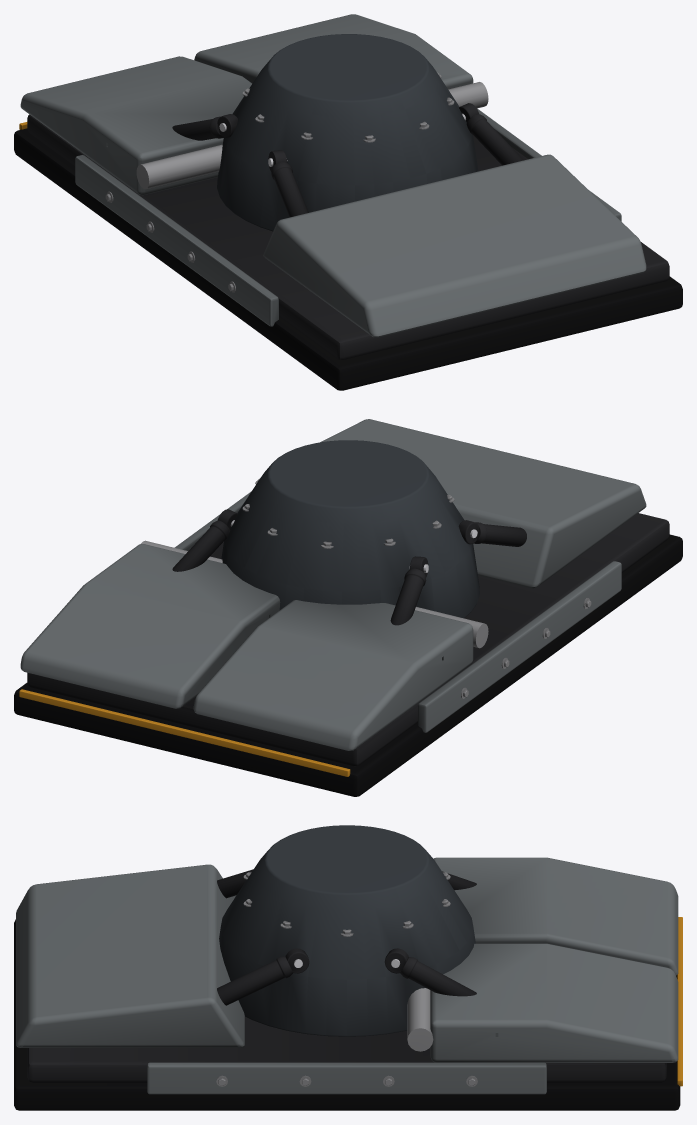
The model's file is frame.foot.glb.
The picture shows the model from 3 angles, top to bottom: view 1: azimuth 30°, elevation 25°; view 2: azimuth 150°, elevation 25°; view 3: azimuth 270°, elevation 25°; orthographic projection.
Bounding box in the file's own units: 2.29 × 1.04 × 3.61.
